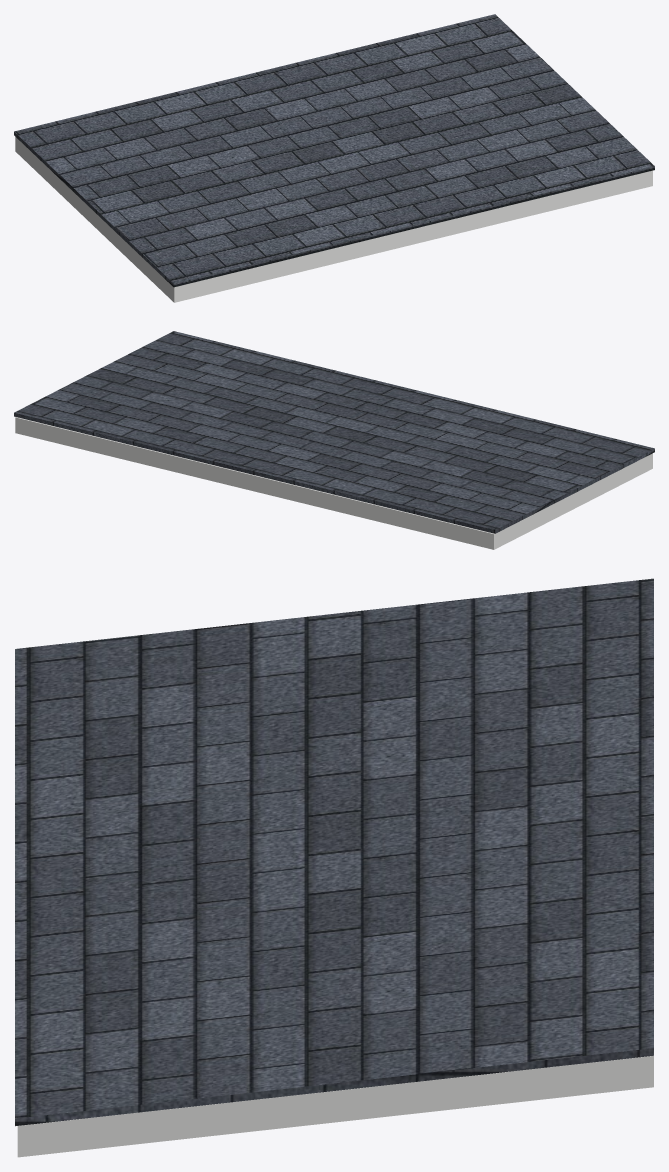
The model's file is porch_roof_g.glb.
The picture shows the model from 3 angles, top to bottom: view 1: azimuth 30°, elevation 25°; view 2: azimuth 150°, elevation 25°; view 3: azimuth 270°, elevation 25°; orthographic projection. The views are drawn at different scales.
Visible parts, largest first — view 1: porch_roof_g_shingle_g, porch_roof_g_trim; view 2: porch_roof_g_shingle_g, porch_roof_g_trim; view 3: porch_roof_g_shingle_g, porch_roof_g_trim.
Part boxes in pixels (left/top/right/bottom): porch_roof_g_shingle_g: left=14, top=14, right=654, bottom=287; porch_roof_g_trim: left=15, top=137, right=652, bottom=302; porch_roof_g_shingle_g: left=14, top=331, right=654, bottom=533; porch_roof_g_trim: left=15, top=417, right=652, bottom=549; porch_roof_g_shingle_g: left=15, top=578, right=653, bottom=1126; porch_roof_g_trim: left=17, top=1055, right=653, bottom=1157.
Bounding box in the file's own units: 4 × 0.4388 × 2.3.
2 materials, 1 textured.
